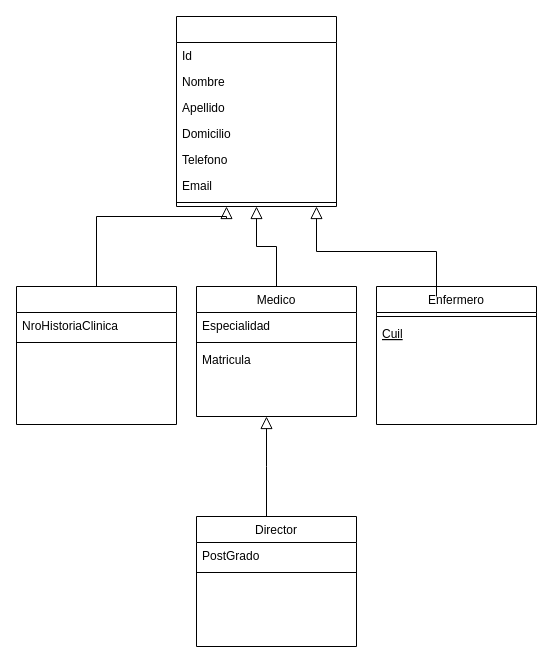
Some shapes in this 553 by 663 pixel diagram are drawn without their labels. The box of each missing label's shape, as (x1, y1, x2, y2) in pixels:
Individuo: (176, 16, 336, 206)
Paciente: (16, 286, 176, 424)
